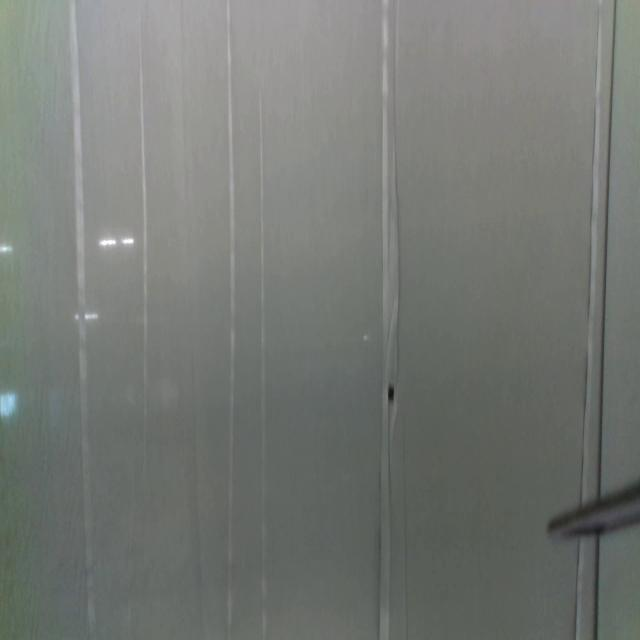hole: (388, 384, 396, 406)
